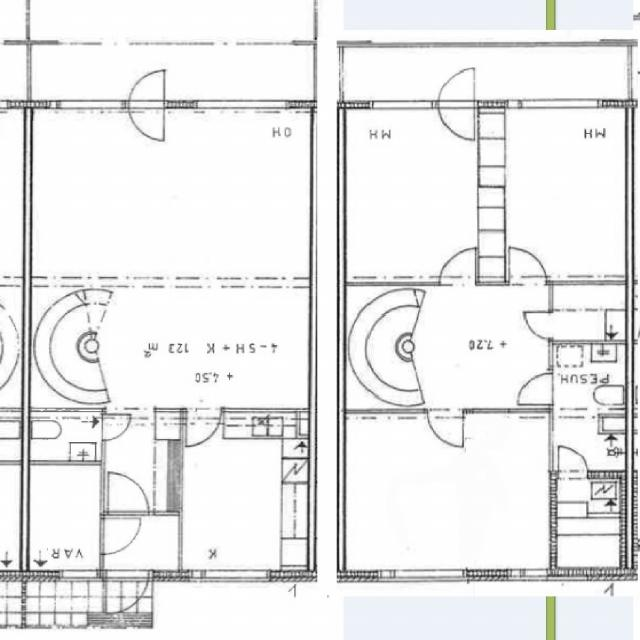door: (107, 570, 147, 620), (107, 471, 148, 516), (509, 244, 546, 286), (438, 100, 474, 143), (438, 65, 474, 108), (100, 518, 142, 554), (129, 100, 164, 143), (129, 66, 164, 109), (439, 245, 475, 286), (427, 408, 463, 447), (186, 407, 221, 446), (516, 374, 552, 404), (558, 442, 587, 478), (100, 414, 132, 441), (522, 312, 553, 337)
